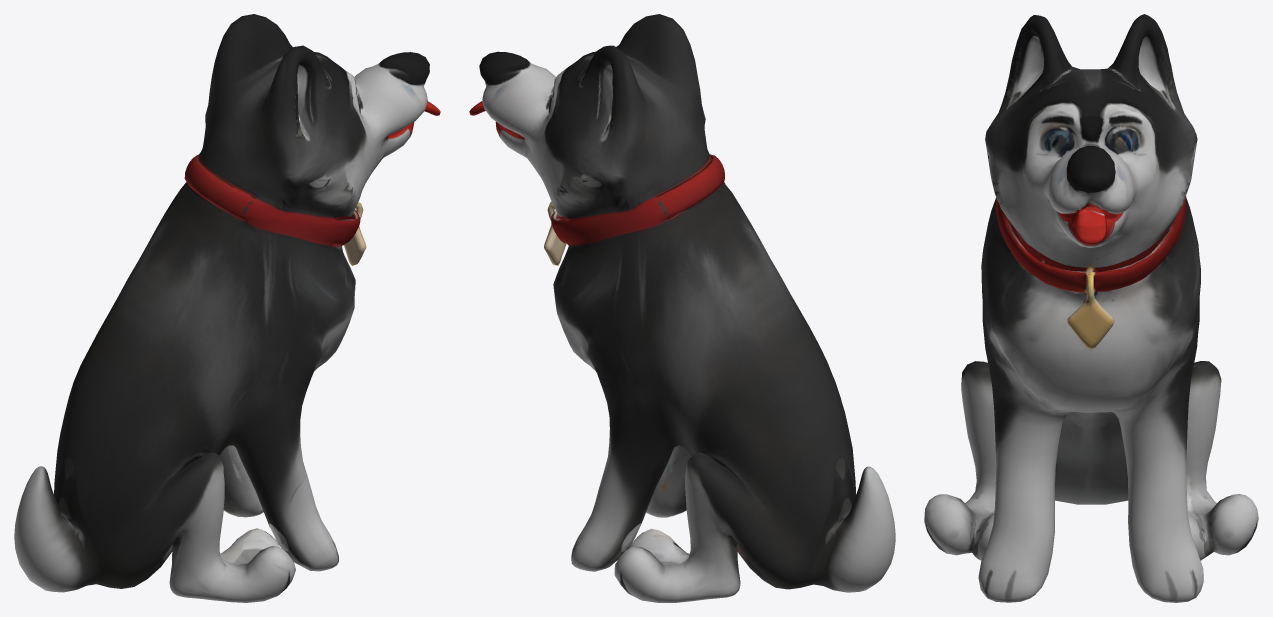
The picture shows the model from 3 angles, left to right: view 1: azimuth 30°, elevation 25°; view 2: azimuth 150°, elevation 25°; view 3: azimuth 270°, elevation 25°; orthographic projection. The views are drawn at different scales.
Parts seen in each view (by area): view 1: tripo_node_9527a92b-2063-4d3e-a069-4d0dfc1481ea; view 2: tripo_node_9527a92b-2063-4d3e-a069-4d0dfc1481ea; view 3: tripo_node_9527a92b-2063-4d3e-a069-4d0dfc1481ea.
Boxes of the visible parts, x1,y1,x2,y2 form: tripo_node_9527a92b-2063-4d3e-a069-4d0dfc1481ea: (14, 14, 440, 602); tripo_node_9527a92b-2063-4d3e-a069-4d0dfc1481ea: (469, 14, 895, 602); tripo_node_9527a92b-2063-4d3e-a069-4d0dfc1481ea: (924, 14, 1258, 602).
Size of the model in its own units: 0.857 by 0.9994 by 0.5238.
1 material, 1 textured.
